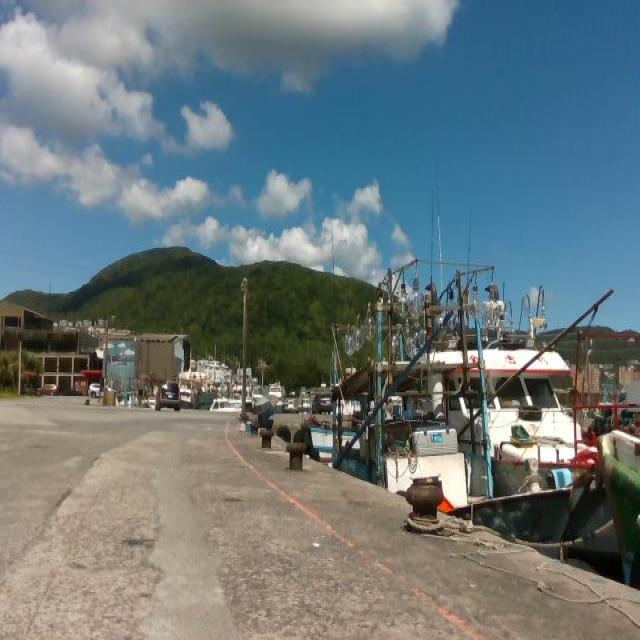pollute: (239, 420, 247, 433)
